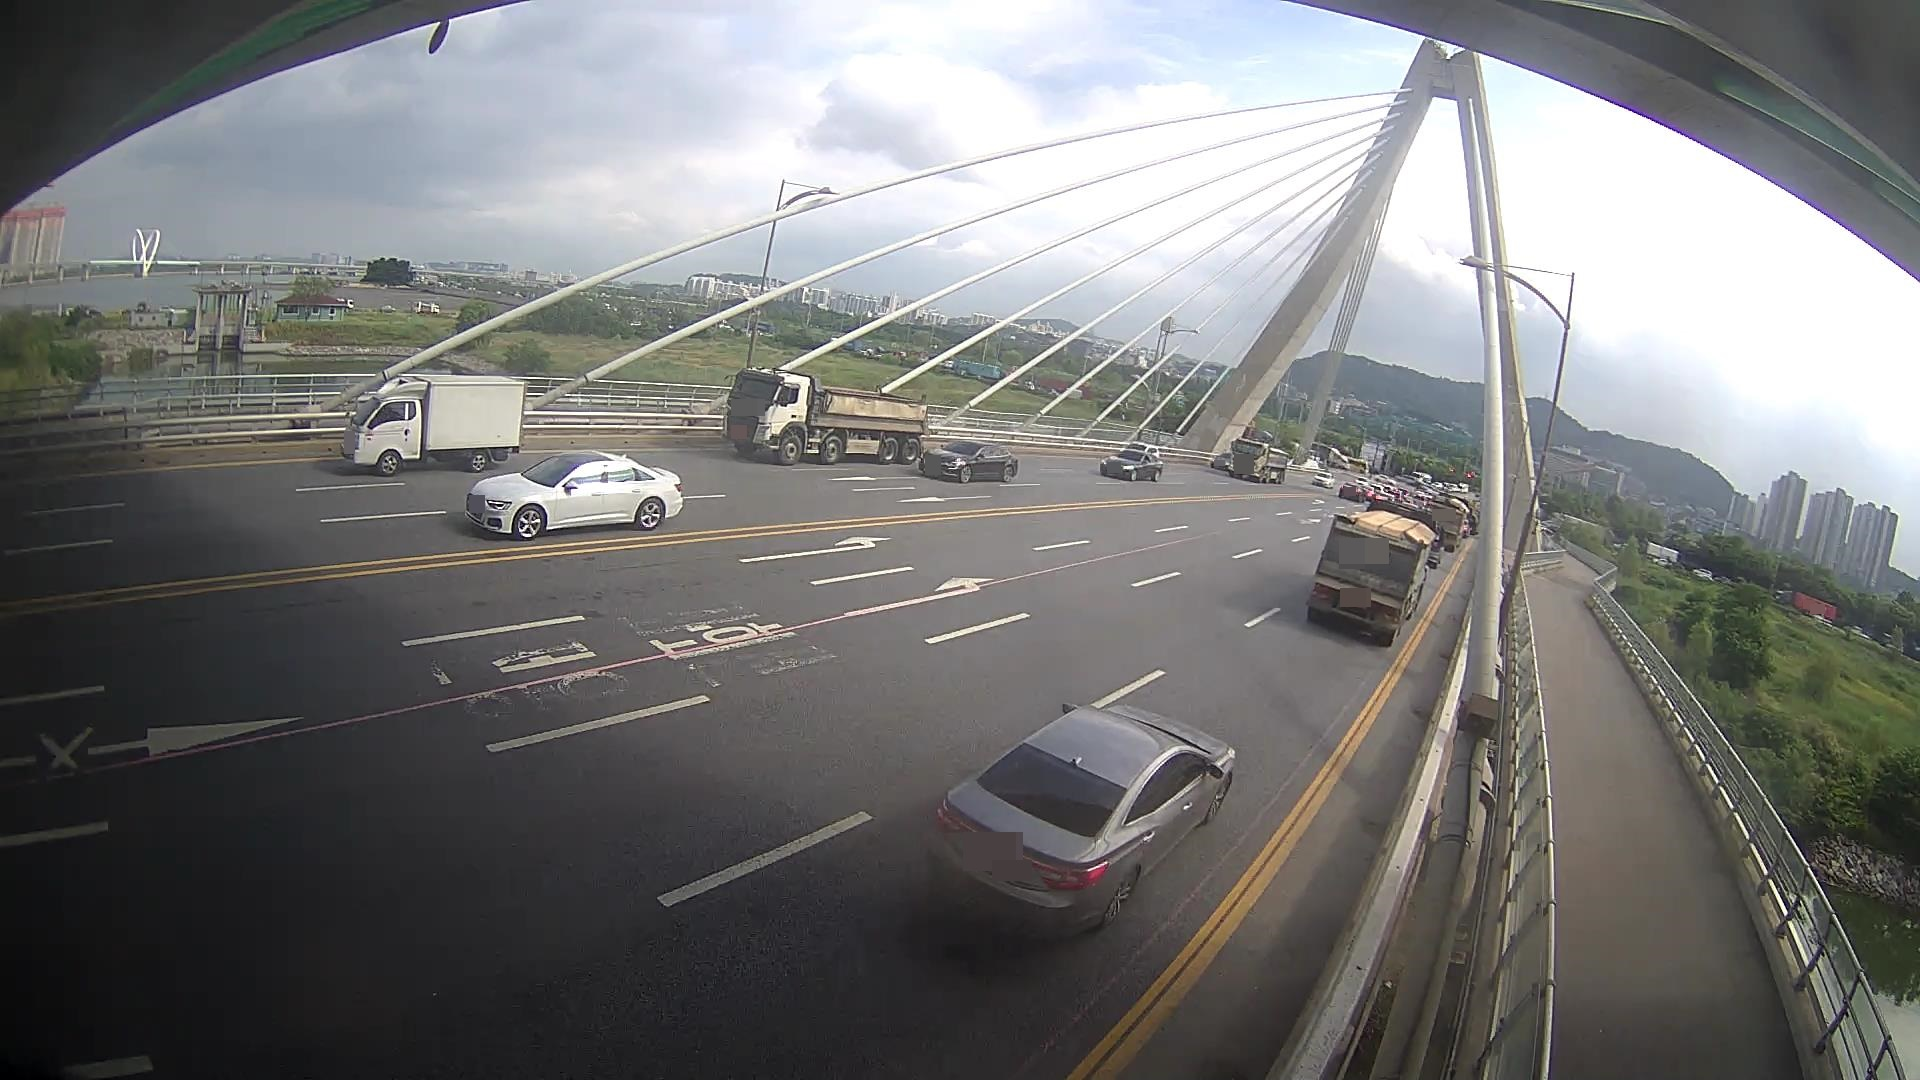정상차량: (1305, 498, 1440, 647)
